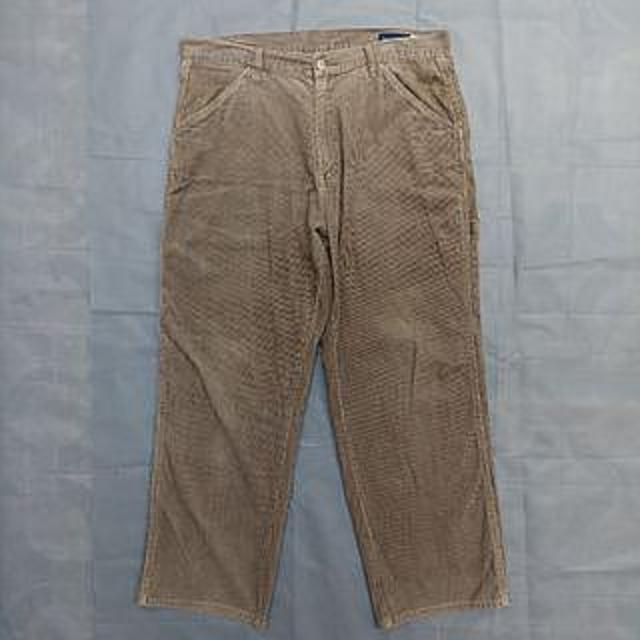TROUSER: (123, 23, 542, 631)
